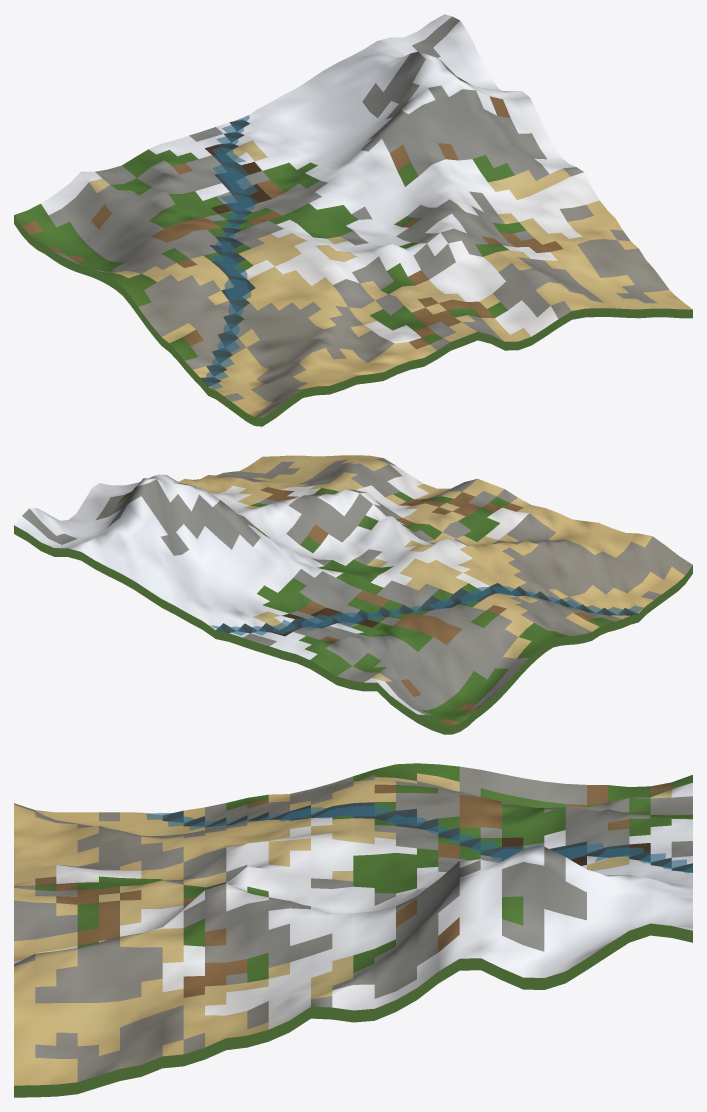
The model's file is chunk_6_3_lod1.glb.
3 renders of one model, top to bottom at view 1: azimuth 30°, elevation 25°; view 2: azimuth 150°, elevation 25°; view 3: azimuth 270°, elevation 25°, orthographic. The views are drawn at different scales.
Visible parts, largest first — view 1: Surface_Gravel, Surface_Snow, Surface_Sand, Surface_Grass, Skirt, Surface_Dirt, Surface_Water, Water, Surface_Mud; view 2: Surface_Gravel, Surface_Snow, Surface_Sand, Surface_Grass, Skirt, Surface_Dirt, Surface_Water, Water, Surface_Mud; view 3: Surface_Gravel, Surface_Snow, Surface_Sand, Surface_Grass, Skirt, Surface_Dirt, Surface_Water, Water, Surface_Mud.
Part boxes in pixels (left/top/right/bottom): Surface_Gravel: left=49, top=16, right=669, bottom=417; Surface_Snow: left=41, top=14, right=599, bottom=343; Surface_Sand: left=89, top=140, right=692, bottom=416; Surface_Grass: left=14, top=77, right=526, bottom=360; Skirt: left=14, top=215, right=692, bottom=426; Surface_Dirt: left=22, top=96, right=562, bottom=349; Surface_Water: left=201, top=119, right=258, bottom=386; Water: left=205, top=115, right=257, bottom=389; Surface_Mud: left=205, top=144, right=271, bottom=213; Surface_Gravel: left=22, top=458, right=692, bottom=715; Surface_Snow: left=14, top=464, right=529, bottom=714; Surface_Sand: left=178, top=455, right=684, bottom=681; Surface_Grass: left=117, top=488, right=614, bottom=725; Skirt: left=14, top=525, right=692, bottom=734; Surface_Dirt: left=260, top=487, right=593, bottom=725; Surface_Water: left=216, top=583, right=637, bottom=633; Water: left=210, top=586, right=643, bottom=635; Surface_Mud: left=272, top=607, right=379, bottom=636; Surface_Gravel: left=14, top=766, right=692, bottom=1081; Surface_Snow: left=14, top=782, right=692, bottom=1029; Surface_Sand: left=14, top=773, right=671, bottom=1085; Surface_Grass: left=35, top=763, right=692, bottom=982; Skirt: left=14, top=923, right=692, bottom=1097; Surface_Dirt: left=35, top=782, right=671, bottom=997; Surface_Water: left=162, top=802, right=692, bottom=872; Water: left=146, top=805, right=692, bottom=873; Surface_Mud: left=502, top=837, right=650, bottom=865.
Bounding box in the file's own units: 256 × 88.96 × 256.
